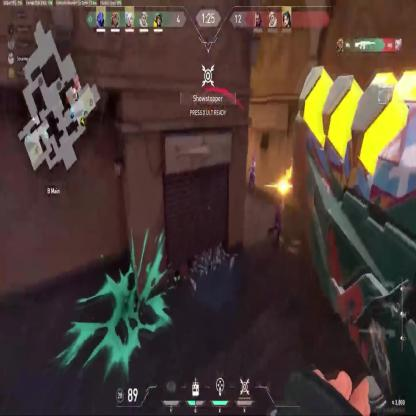enemy: (270, 183, 285, 246), (247, 155, 258, 195)
enemy_head: (251, 156, 254, 163)
